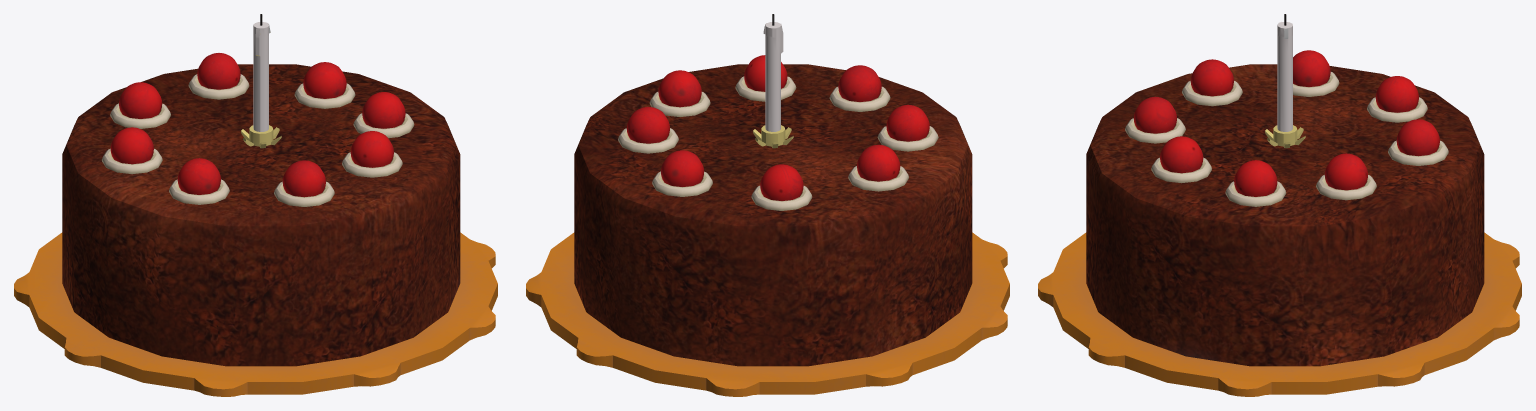
Rendered from cake.fbx.
3 renders of one model, left to right at view 1: azimuth 30°, elevation 25°; view 2: azimuth 150°, elevation 25°; view 3: azimuth 270°, elevation 25°, orthographic.
Parts seen in each view (by area): view 1: Cake; view 2: Cake; view 3: Cake.
Part boxes in pixels (x1,y1,x2,y2): Cake: (14,14,497,396); Cake: (526,14,1009,396); Cake: (1038,14,1521,396).
Size of the model in its own units: 207 by 131 by 204.
